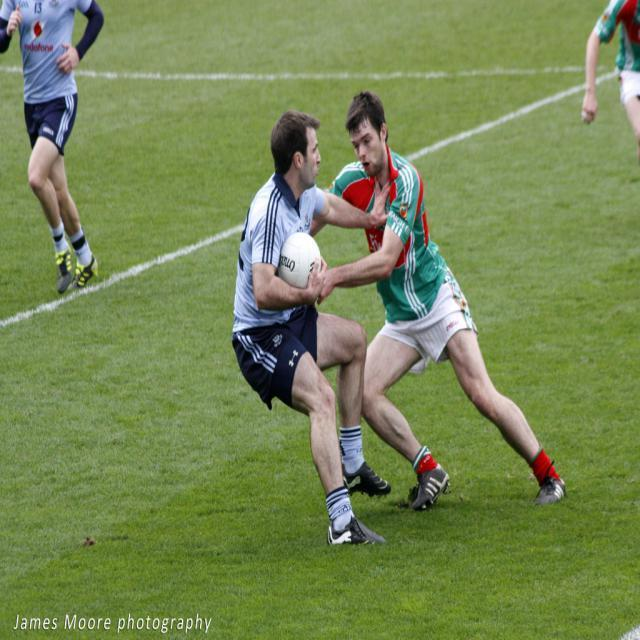football: (275, 228, 328, 299)
